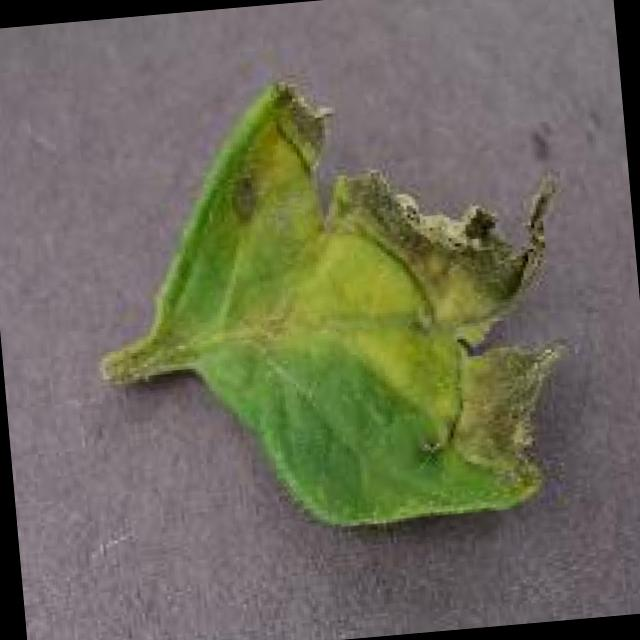leaf blight: (97, 68, 572, 525)
